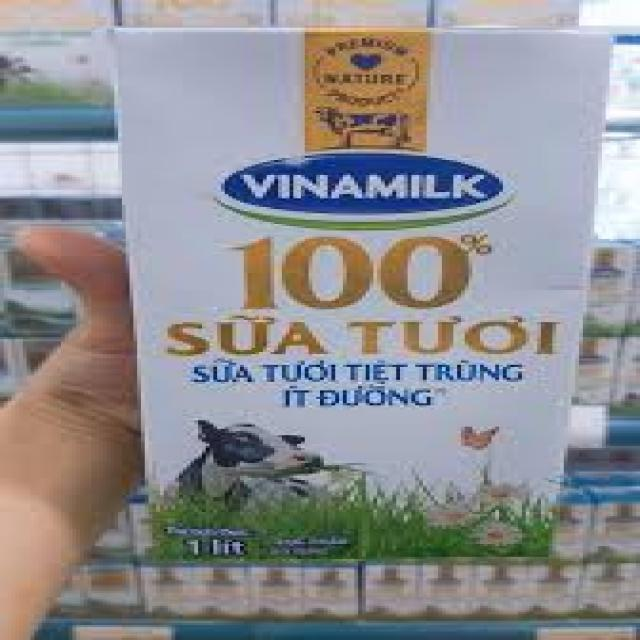non_white_jug: (82, 19, 630, 606)
